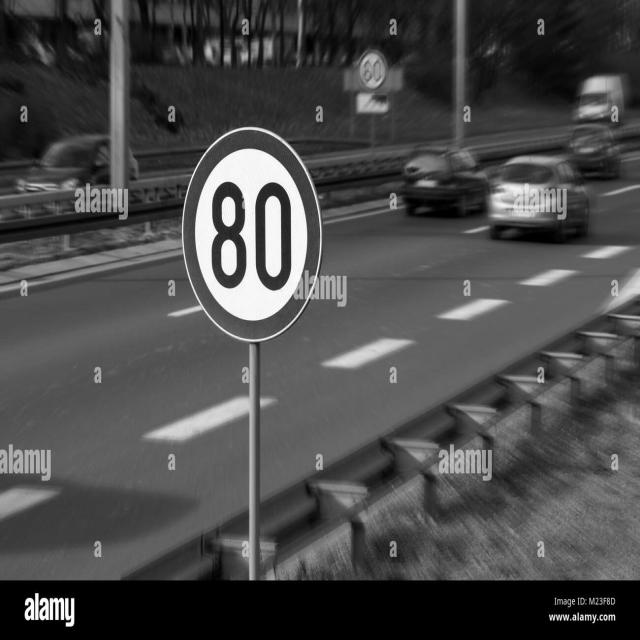speed_80: (186, 123, 322, 340)
